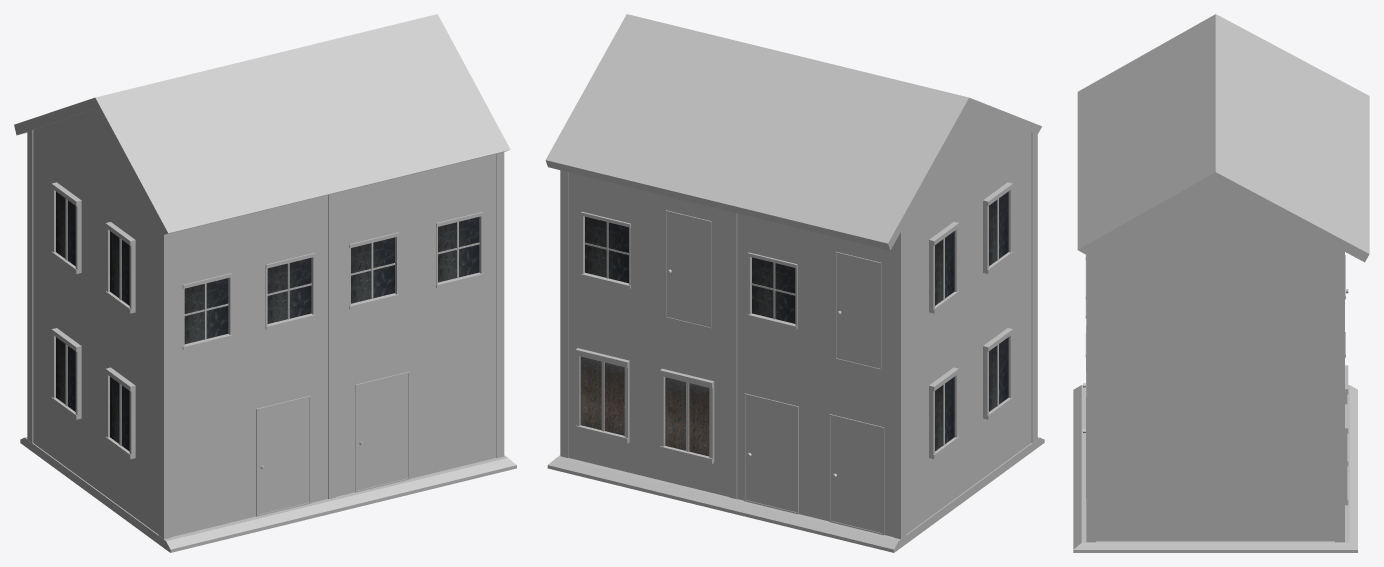
The model's file is apart_poor_02a.fbx.
3 views of the same model, side by side, from view 1: azimuth 30°, elevation 25°; view 2: azimuth 150°, elevation 25°; view 3: azimuth 270°, elevation 25° (orthographic). The views are drawn at different scales.
Parts seen in each view (by area): view 1: apart_poor_02a; view 2: apart_poor_02a; view 3: apart_poor_02a.
Boxes of the visible parts, x1=… form: apart_poor_02a: x1=14, y1=14, x2=516, y2=552; apart_poor_02a: x1=545, y1=14, x2=1044, y2=552; apart_poor_02a: x1=1073, y1=14, x2=1369, y2=552.
Size of the model in its own units: 6.91 by 7.54 by 5.34.
